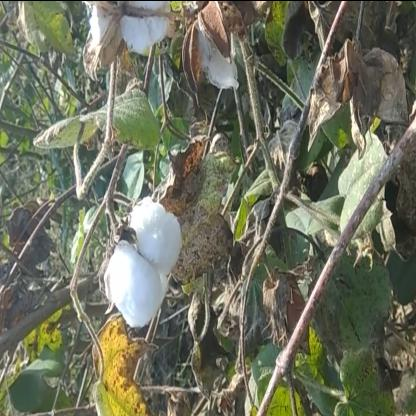cotton_ready: (86, 175, 183, 343)
